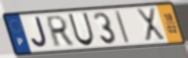3: (93, 12, 118, 45)
I: (113, 9, 131, 45)
J: (30, 16, 49, 50)
R: (45, 14, 75, 49)
U: (67, 12, 96, 48)
X: (135, 7, 168, 43)
